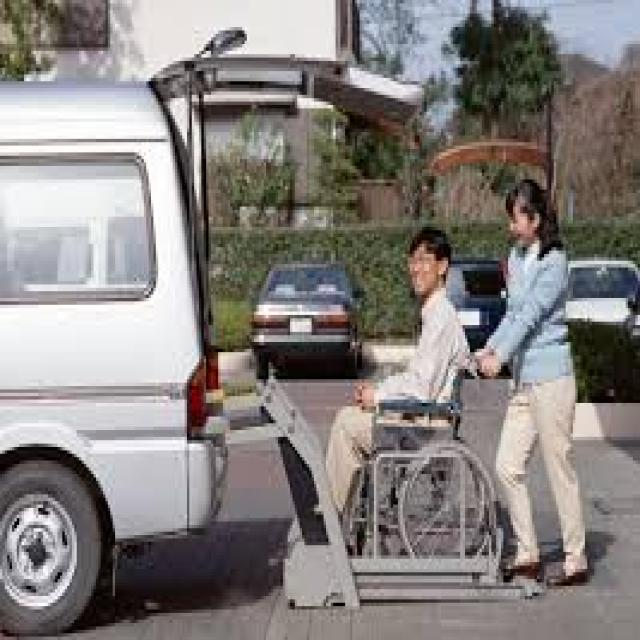wheelchairs: (345, 342, 499, 566)
